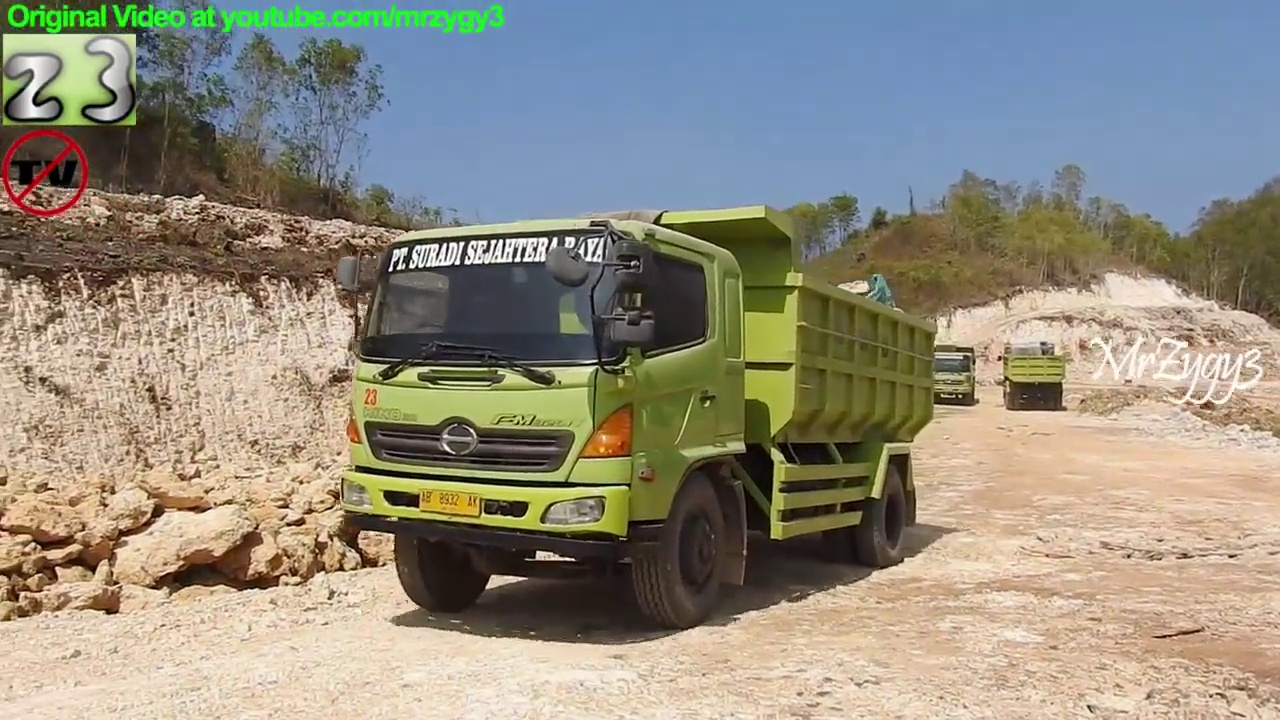truck: (331, 200, 941, 633), (995, 338, 1072, 414), (916, 343, 982, 407)
